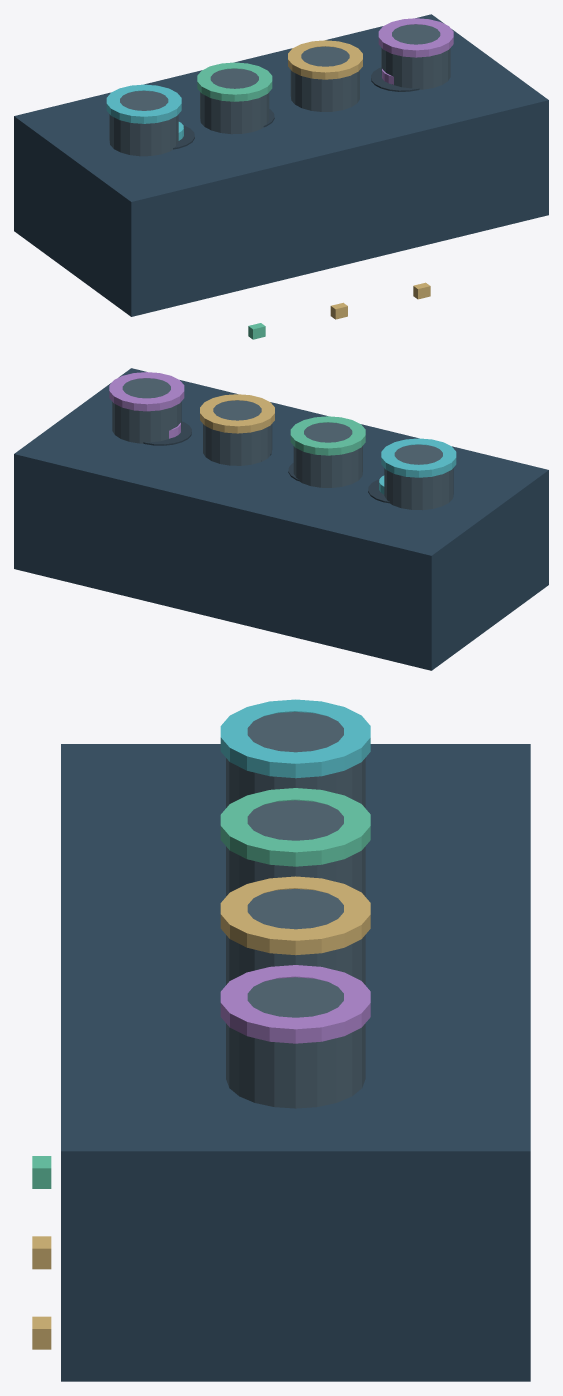
File: 38_L80_PhotodiodeReceiverArray.glb
3 renders of one model, top to bottom at view 1: azimuth 30°, elevation 25°; view 2: azimuth 150°, elevation 25°; view 3: azimuth 270°, elevation 25°, orthographic. The views are drawn at different scales.
Visible parts, largest first — view 1: PhotodiodeReceiverArray_Node_0000, PhotodiodeReceiverArray_Node_0005, PhotodiodeReceiverArray_Node_0001, PhotodiodeReceiverArray_Node_0003, PhotodiodeReceiverArray_Node_0007, PhotodiodeReceiverArray_Node_0006, PhotodiodeReceiverArray_Node_0008, PhotodiodeReceiverArray_Node_0004, PhotodiodeReceiverArray_Node_0002; view 2: PhotodiodeReceiverArray_Node_0000, PhotodiodeReceiverArray_Node_0003, PhotodiodeReceiverArray_Node_0005, PhotodiodeReceiverArray_Node_0001, PhotodiodeReceiverArray_Node_0007, PhotodiodeReceiverArray_Node_0004, PhotodiodeReceiverArray_Node_0002, PhotodiodeReceiverArray_Node_0008, PhotodiodeReceiverArray_Node_0006, PhotodiodeReceiverArray_Node_0016; view 3: PhotodiodeReceiverArray_Node_0000, PhotodiodeReceiverArray_Node_0007, PhotodiodeReceiverArray_Node_0004, PhotodiodeReceiverArray_Node_0008, PhotodiodeReceiverArray_Node_0006, PhotodiodeReceiverArray_Node_0002, PhotodiodeReceiverArray_Node_0003, PhotodiodeReceiverArray_Node_0001, PhotodiodeReceiverArray_Node_0005.
Part boxes in pixels (x1,y1,x2,y2): PhotodiodeReceiverArray_Node_0000: (14,14,548,316); PhotodiodeReceiverArray_Node_0005: (290,46,359,111); PhotodiodeReceiverArray_Node_0001: (109,90,178,156); PhotodiodeReceiverArray_Node_0003: (200,68,269,134); PhotodiodeReceiverArray_Node_0007: (381,24,450,89); PhotodiodeReceiverArray_Node_0006: (288,40,362,79); PhotodiodeReceiverArray_Node_0008: (378,18,453,57); PhotodiodeReceiverArray_Node_0004: (197,62,272,101); PhotodiodeReceiverArray_Node_0002: (106,84,181,123); PhotodiodeReceiverArray_Node_0000: (14,368,548,670); PhotodiodeReceiverArray_Node_0003: (293,422,362,487); PhotodiodeReceiverArray_Node_0005: (203,400,272,465); PhotodiodeReceiverArray_Node_0001: (384,444,453,510); PhotodiodeReceiverArray_Node_0007: (112,378,181,443); PhotodiodeReceiverArray_Node_0004: (290,416,365,455); PhotodiodeReceiverArray_Node_0002: (381,438,456,477); PhotodiodeReceiverArray_Node_0008: (109,372,184,411); PhotodiodeReceiverArray_Node_0006: (200,394,274,433); PhotodiodeReceiverArray_Node_0016: (143,421,191,445); PhotodiodeReceiverArray_Node_0000: (61,744,530,1381); PhotodiodeReceiverArray_Node_0007: (226,977,365,1108); PhotodiodeReceiverArray_Node_0004: (220,788,370,866); PhotodiodeReceiverArray_Node_0008: (220,965,370,1043); PhotodiodeReceiverArray_Node_0006: (220,876,370,955); PhotodiodeReceiverArray_Node_0002: (220,699,370,778); PhotodiodeReceiverArray_Node_0003: (226,800,365,896); PhotodiodeReceiverArray_Node_0001: (226,712,365,807); PhotodiodeReceiverArray_Node_0005: (226,889,365,984).
Bounding box in the file's own units: 1.52 × 0.7005 × 0.785.
